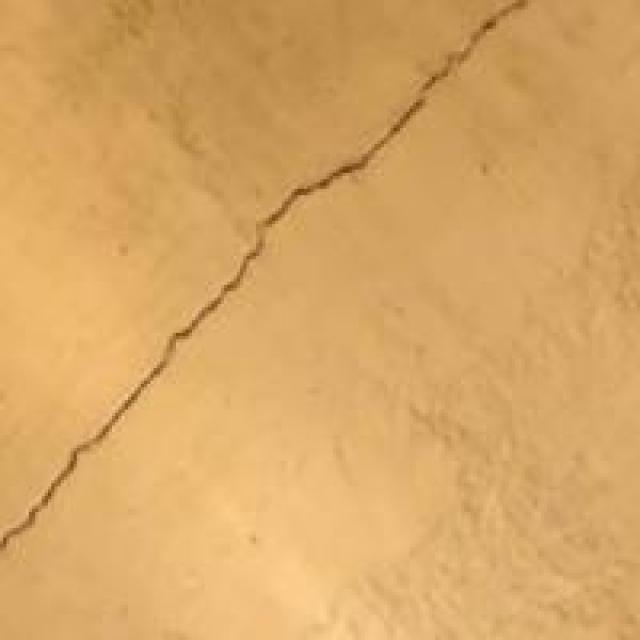crack: (0, 0, 522, 589)
